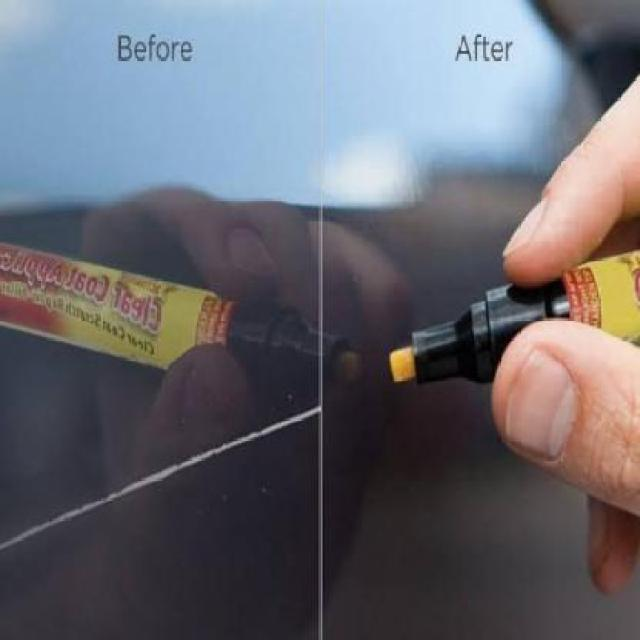scratch: (2, 367, 317, 553)
